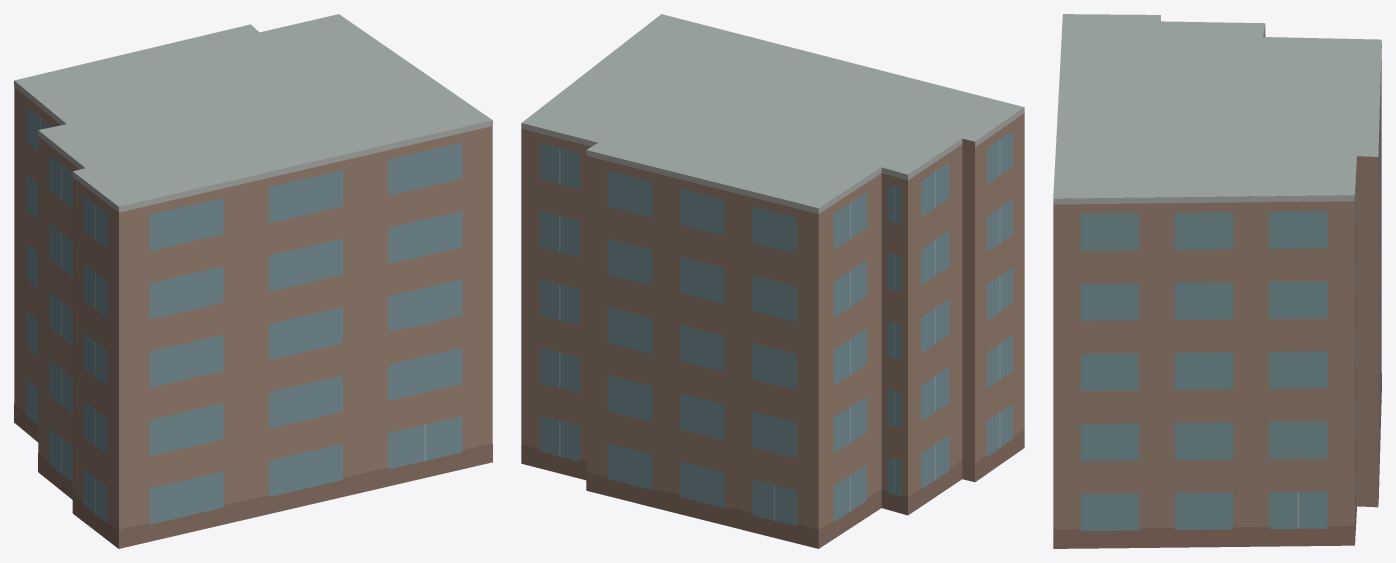
Rendered from survey-upis-33014917.glb.
The picture shows the model from 3 angles, left to right: view 1: azimuth 30°, elevation 25°; view 2: azimuth 150°, elevation 25°; view 3: azimuth 270°, elevation 25°; orthographic projection. The views are drawn at different scales.
Visible parts, largest first — view 1: survey-upis-33014917.tmp; view 2: survey-upis-33014917.tmp; view 3: survey-upis-33014917.tmp.
Boxes of the visible parts, x1,y1,x2,y2 form: survey-upis-33014917.tmp: (14, 14, 492, 548); survey-upis-33014917.tmp: (521, 14, 1024, 548); survey-upis-33014917.tmp: (1053, 14, 1381, 548).
Bounding box in the file's own units: 16.28 × 14.4 × 12.25.
